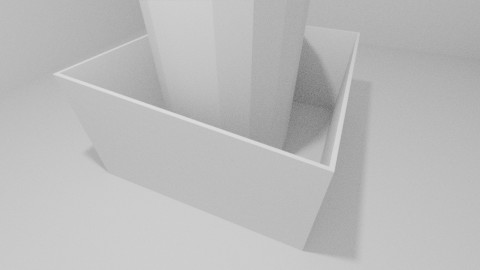cheminee: (139, 1, 310, 188)
eaf: (59, 73, 329, 246)
